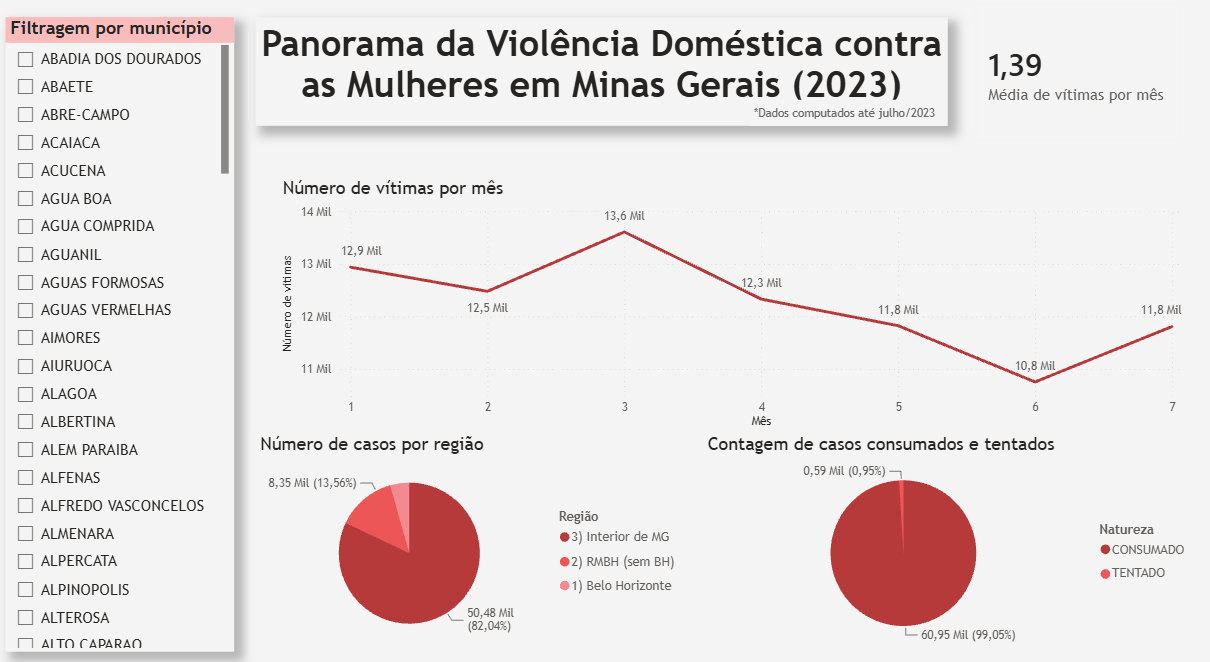

What the dashboard file says about the page in this screenshot:
{"tool":"powerbi","page":{"name":"Página 1","canvas":[1280,720],"ordinal":0},"visuals":[{"type":"pieChart","title":"Contagem de casos consumados e tentados","fields":{"Y":["CountNonNull(violencia_domestica_2023.tentado_consumado)"],"Category":["violencia_domestica_2023.tentado_consumado"]},"box":[742.3,469.6,514.8,227.4],"z":0},{"type":"cardVisual","fields":{"Data":["Sum(violencia_domestica_2023.qtde_vitimas)"]},"box":[1008.8,6.1,248.2,176.1],"z":1000},{"type":"pieChart","title":"Número de casos por região","fields":{"Category":["violencia_domestica_2023.rmbh"],"Y":["CountNonNull(violencia_domestica_2023.rmbh)"]},"box":[277.6,469.6,450,227.4],"z":2000},{"type":"slicer","title":"Filtragem por município","fields":{"Values":["violencia_domestica_2023.municipio_fato"]},"box":[18.3,37.9,237.2,659.1],"z":3000},{"type":"lineChart","title":"Número de vítimas por mês","fields":{"Category":["violencia_domestica_2023.mes"],"Y":["Sum(violencia_domestica_2023.qtde_vitimas)"]},"box":[300.8,204.2,944,265.4],"z":4000},{"type":"textbox","box":[277.6,37.9,719,112.5],"z":5000},{"type":"textbox","box":[790.9,123.4,205.2,27.3],"z":6000}]}

Visuals, with their boxes in screenshot pixels (x1, y1, x2, y2), scaled from the page's 1280x720 canvas onto the 1210x662 screenshot:
"Contagem de casos consumados e tentados" pieChart: 702/432/1188/641
cardVisual - Sum(violencia_domestica_2023.qtde_vitimas): 954/6/1188/168
"Número de casos por região" pieChart: 262/432/688/641
"Filtragem por município" slicer: 17/35/242/641
"Número de vítimas por mês" lineChart: 284/188/1177/432
textbox: 262/35/942/138
textbox: 748/113/942/139
